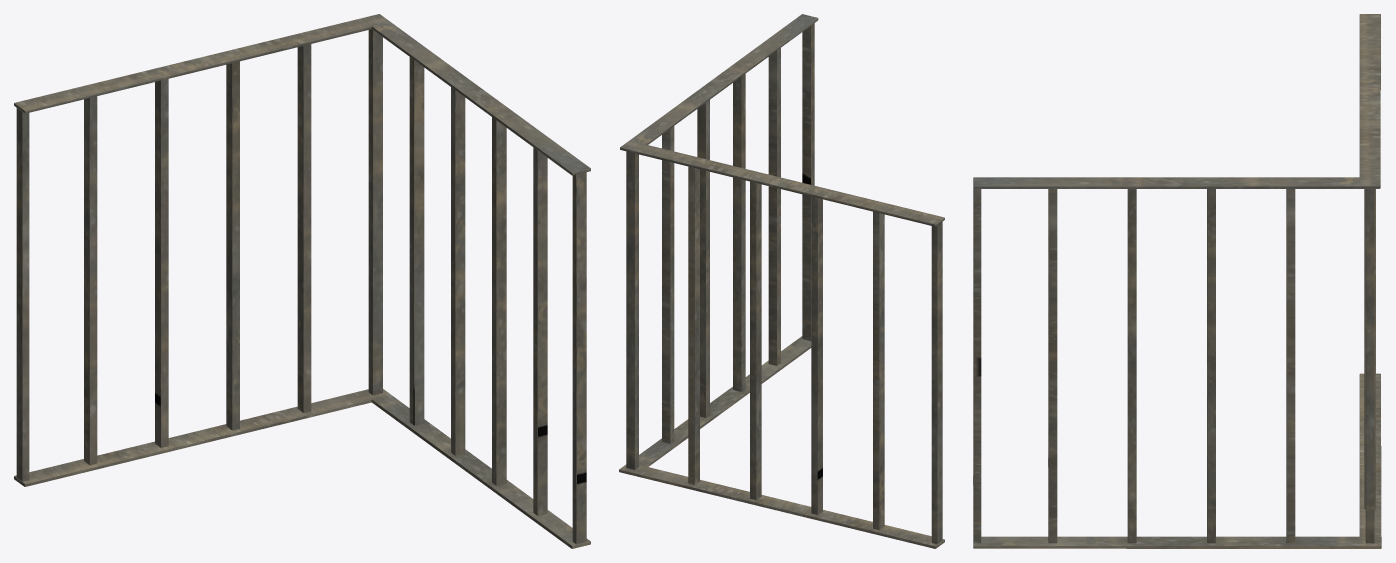
File: SM_Brutalist_Fence_01_C_LOD0.glb
3 views of the same model, side by side, from view 1: azimuth 30°, elevation 25°; view 2: azimuth 150°, elevation 25°; view 3: azimuth 270°, elevation 25° (orthographic). The views are drawn at different scales.
Visible parts, largest first — view 1: SM_Brutalist_Fence_01_C_LOD0; view 2: SM_Brutalist_Fence_01_C_LOD0; view 3: SM_Brutalist_Fence_01_C_LOD0.
Part boxes in pixels (bbox=[...]): SM_Brutalist_Fence_01_C_LOD0: bbox=[14, 14, 590, 548]; SM_Brutalist_Fence_01_C_LOD0: bbox=[619, 14, 944, 548]; SM_Brutalist_Fence_01_C_LOD0: bbox=[973, 14, 1381, 548].
Bounding box in the file's own units: 1.03 × 1.01 × 1.03.
1 material, 1 textured.
